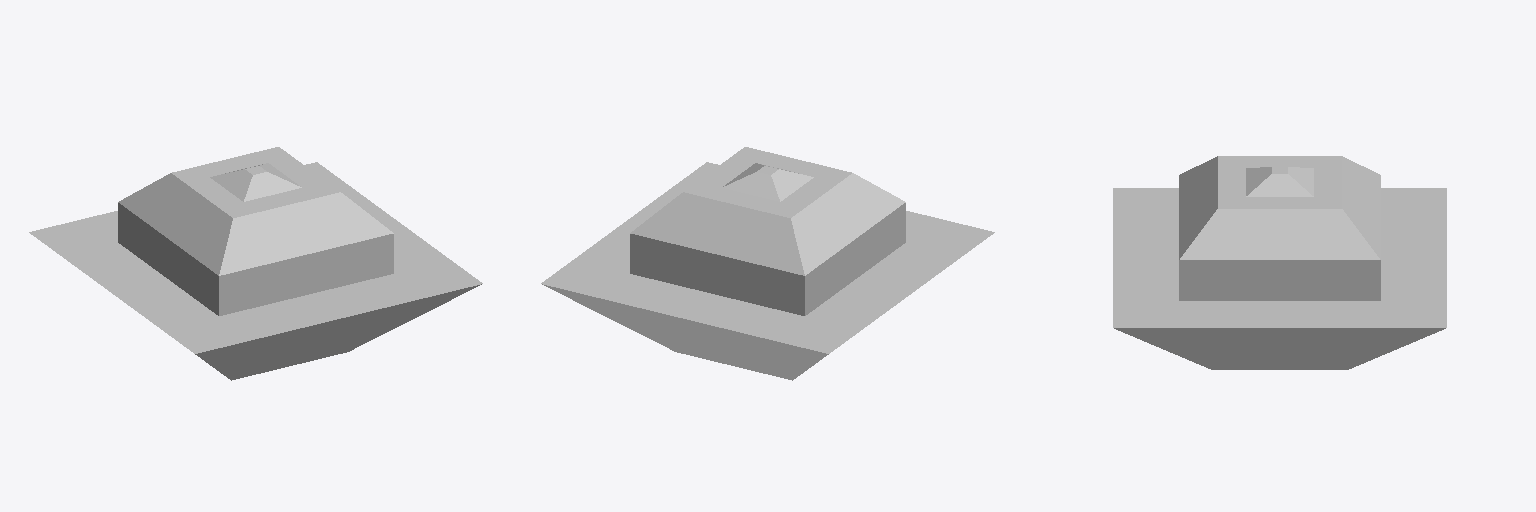
The model's file is vase.obj.
The picture shows the model from 3 angles: view 1: azimuth 30°, elevation 25°; view 2: azimuth 150°, elevation 25°; view 3: azimuth 270°, elevation 25°; orthographic projection.
Parts seen in each view (by area): view 1: Cube; view 2: Cube; view 3: Cube.
Part boxes in pixels (x1,y1,x2,y2): Cube: (29,147,482,380); Cube: (541,147,994,380); Cube: (1113,156,1446,369).
Size of the model in its own units: 2 by 1.13 by 2.